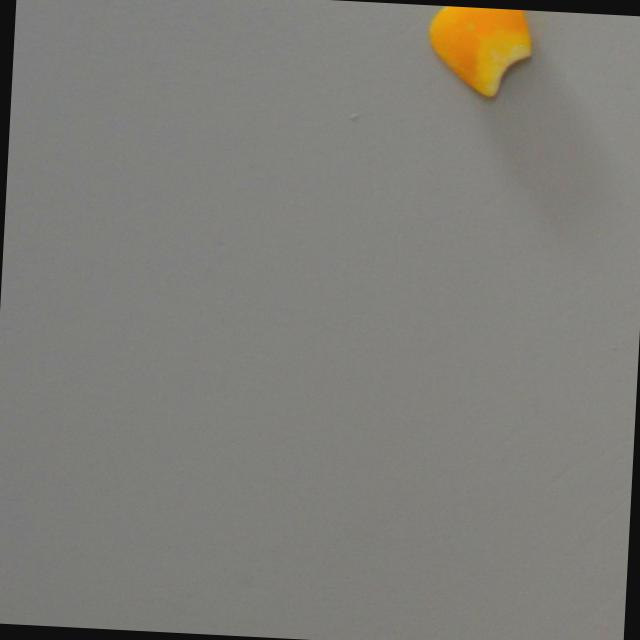no_canjicado: (426, 5, 536, 99)
